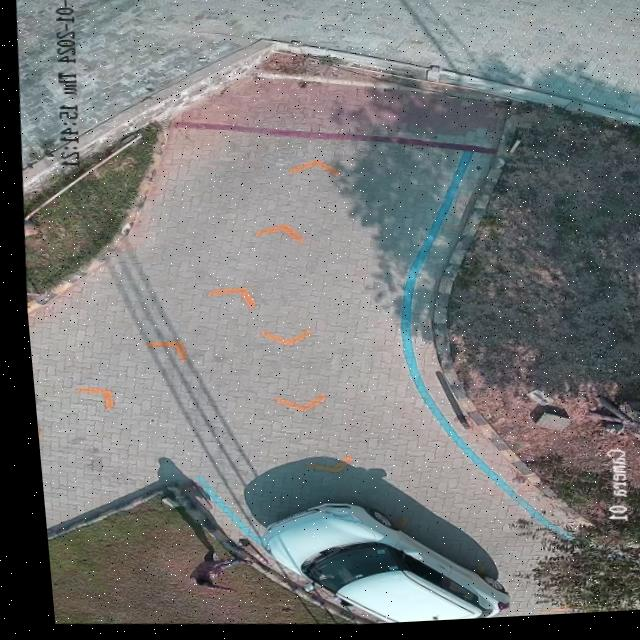car: (249, 504, 500, 627)
